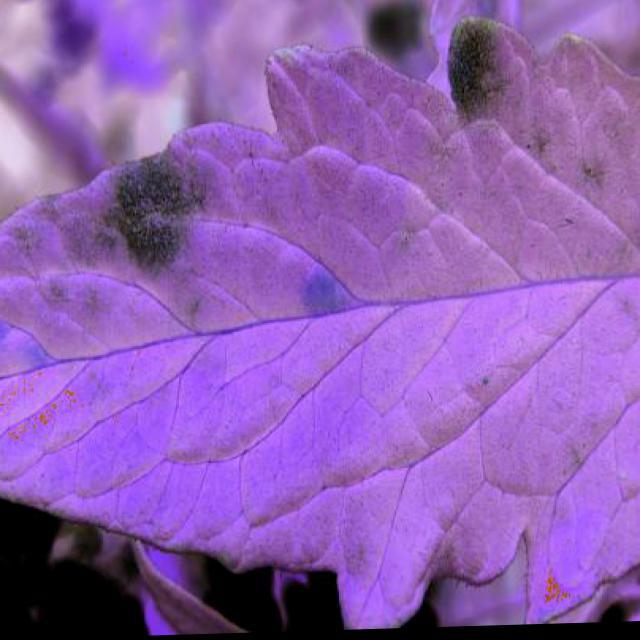Tomato mold leaf: (1, 5, 639, 640)
